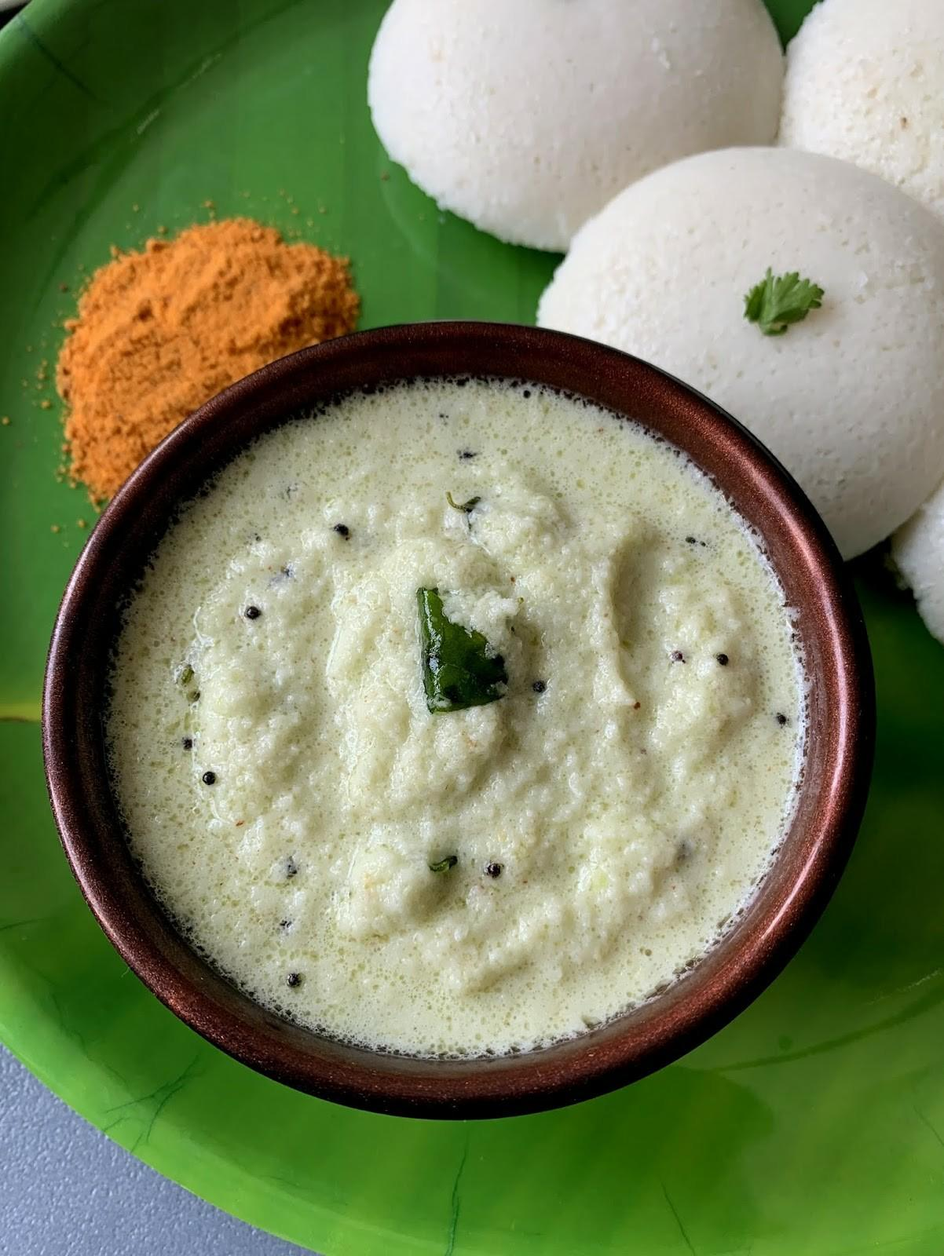CoconutChutney: (100, 377, 803, 1054)
